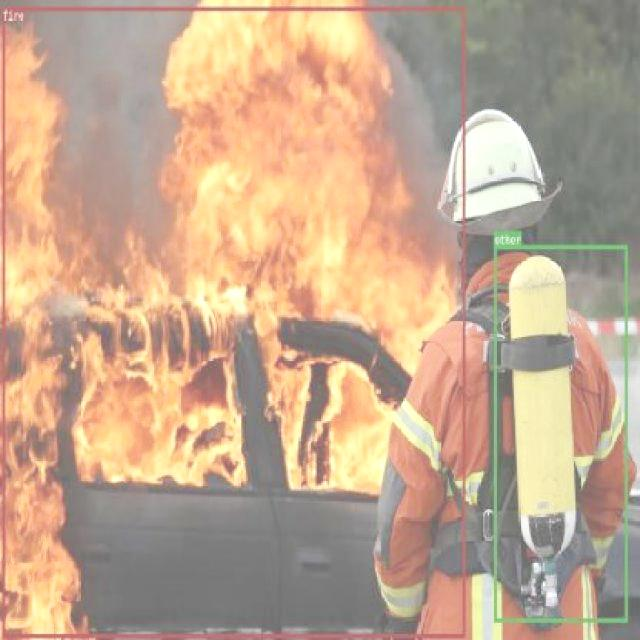fire: (2, 6, 464, 637)
